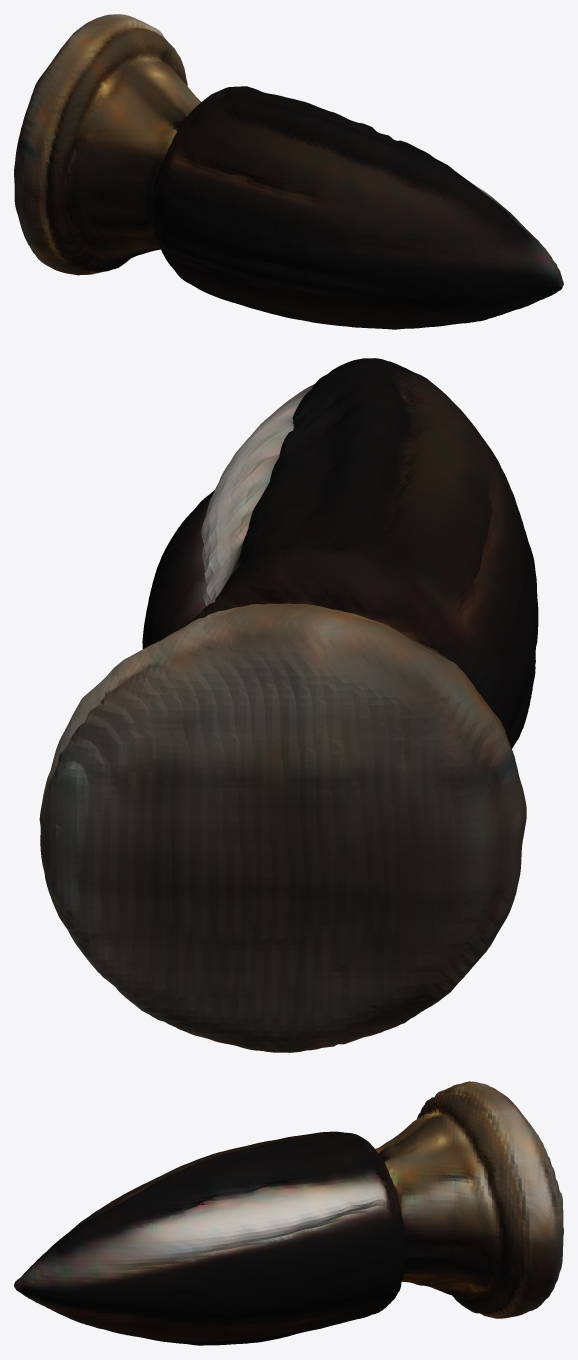
3 renders of one model, top to bottom at view 1: azimuth 30°, elevation 25°; view 2: azimuth 150°, elevation 25°; view 3: azimuth 270°, elevation 25°, orthographic. The views are drawn at different scales.
Bounding box in the file's own units: 0.6009 × 0.434 × 0.9971.
